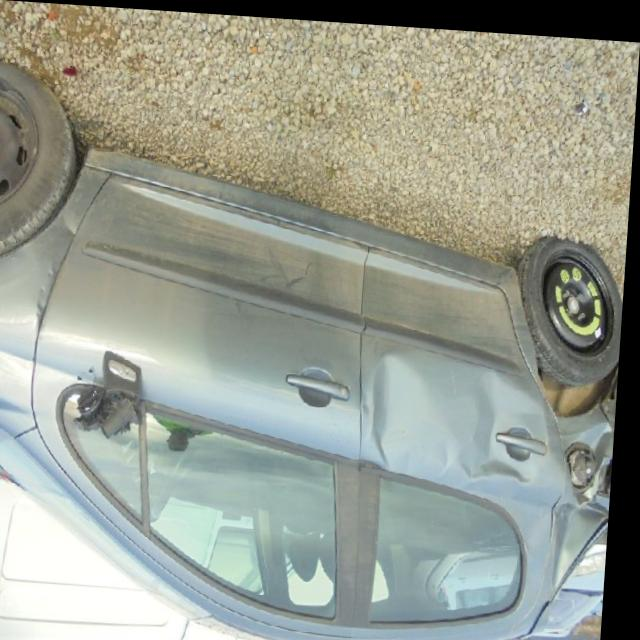porte-avant: (83, 163, 379, 619)
